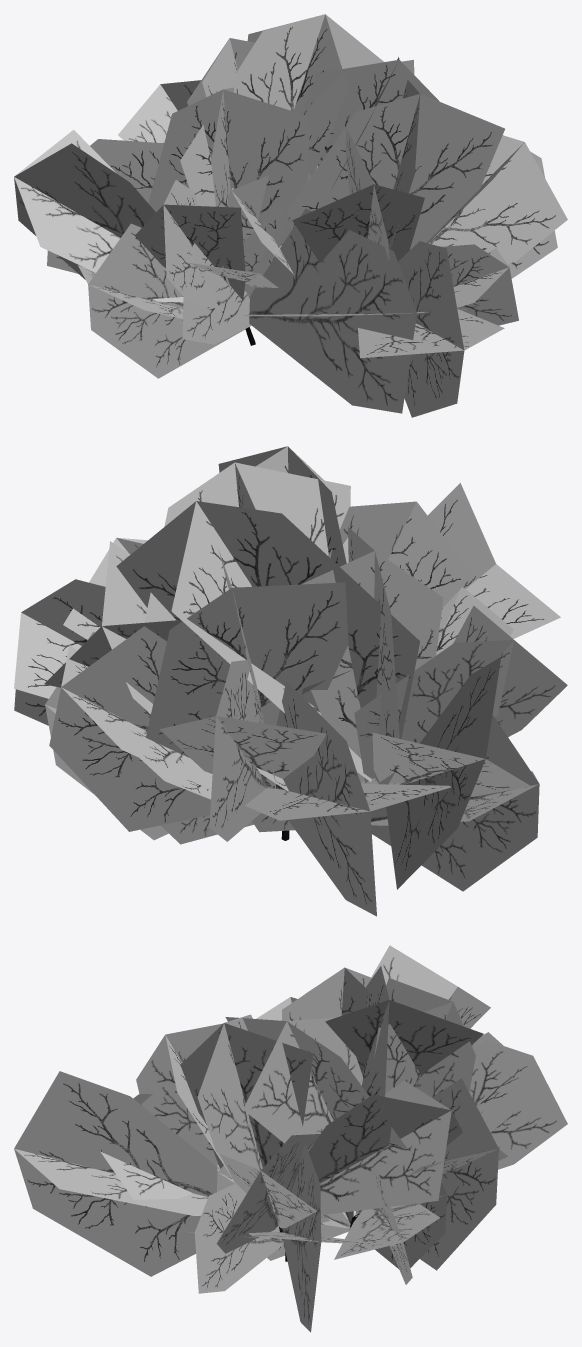
The model's file is Bush_A_03.fbx.
3 views of the same model, one above another, from view 1: azimuth 30°, elevation 25°; view 2: azimuth 150°, elevation 25°; view 3: azimuth 270°, elevation 25° (orthographic). The views are drawn at different scales.
Visible parts, largest first — view 1: Bush_A_03_LOD0; view 2: Bush_A_03_LOD0; view 3: Bush_A_03_LOD0.
Boxes of the visible parts, x1,y1,x2,y2 form: Bush_A_03_LOD0: (14, 14, 567, 417); Bush_A_03_LOD0: (14, 446, 567, 916); Bush_A_03_LOD0: (14, 945, 567, 1332).
Size of what is drawn, in the model's own units: 346 by 215 by 363.
